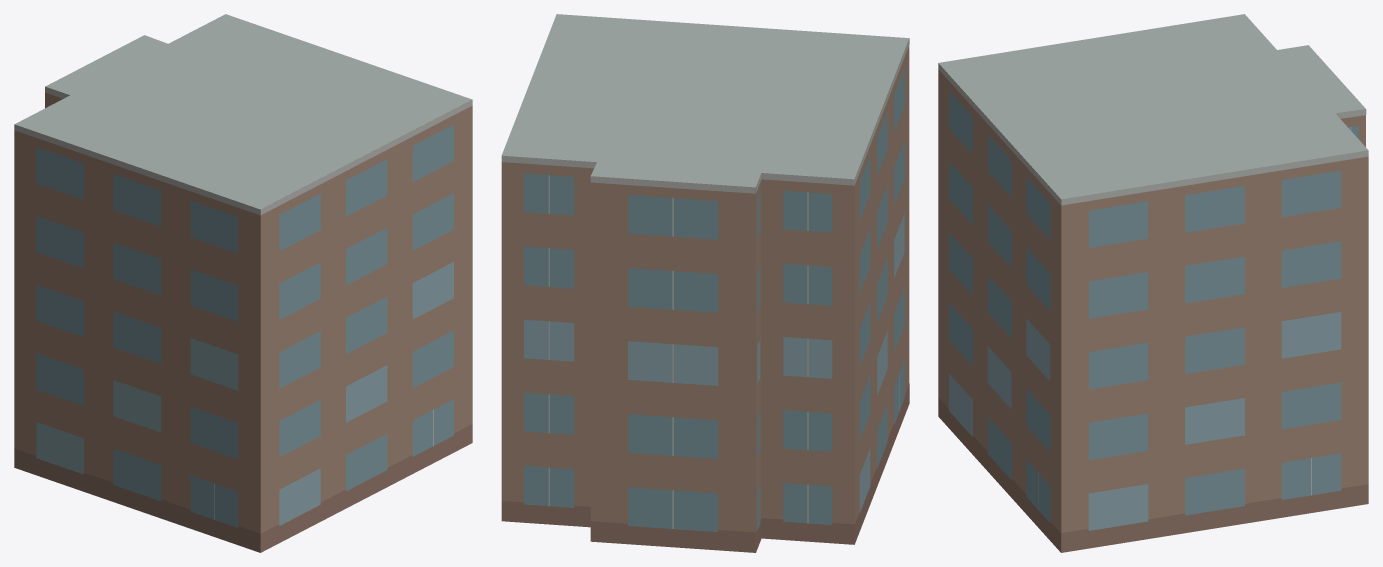
Rendered from survey-upis-32846447.glb.
The picture shows the model from 3 angles, left to right: view 1: azimuth 30°, elevation 25°; view 2: azimuth 150°, elevation 25°; view 3: azimuth 270°, elevation 25°; orthographic projection. The views are drawn at different scales.
Visible parts, largest first — view 1: survey-upis-32846447.tmp; view 2: survey-upis-32846447.tmp; view 3: survey-upis-32846447.tmp.
Part boxes in pixels (<box>): survey-upis-32846447.tmp: <box>14,14,472,552</box>; survey-upis-32846447.tmp: <box>501,14,909,552</box>; survey-upis-32846447.tmp: <box>938,14,1368,552</box>.
Size of the model in its own units: 15.87 by 14.1 by 15.57.
